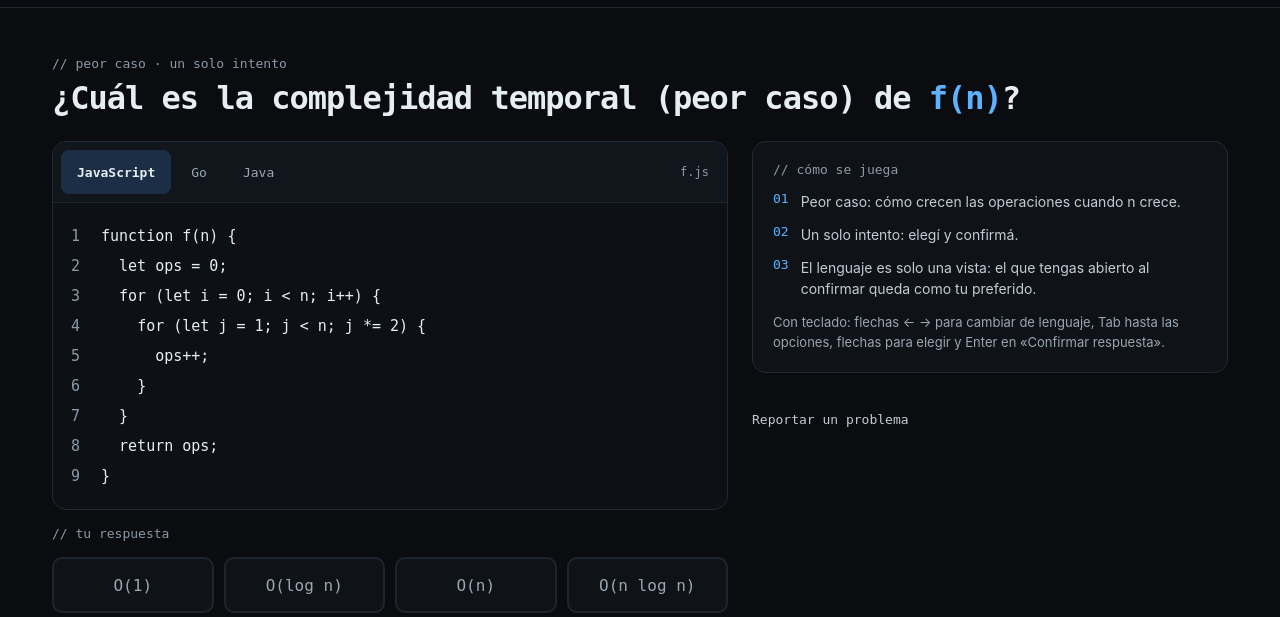
Test case: errores del ciclo común › TS-24: challenge_voided al confirmar bloquea la partida
This screenshot has width=1280, height=617.
Click the radio button labelled "O(n)": click(476, 585) [395,557,556,613]
(page scrolled)
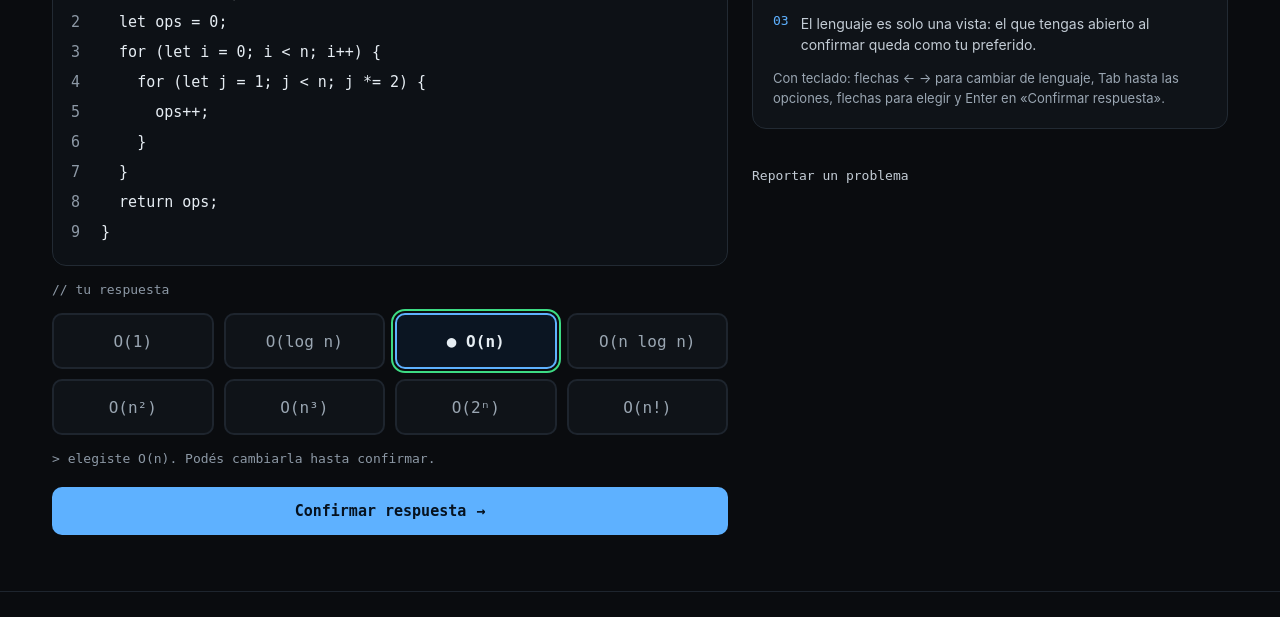
Click the button "Confirmar respuesta →": click(390, 511) [52,487,728,535]
(page scrolled)
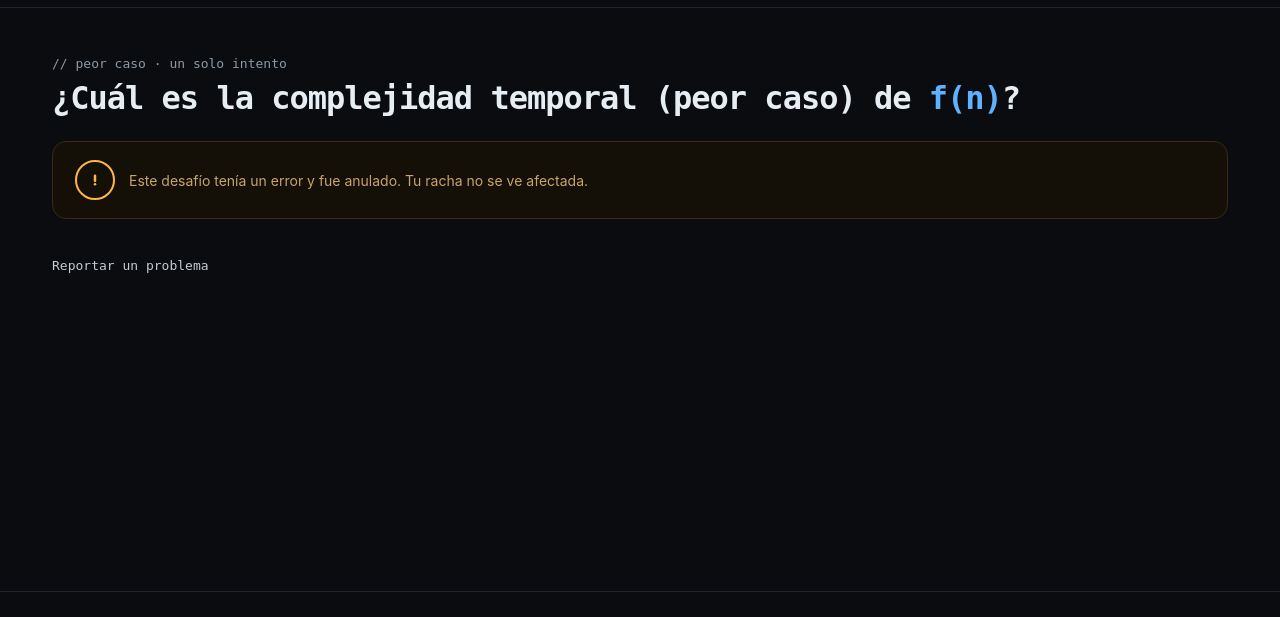
Expected: the button "Reportar un problema" is shown, [52,243,1228,287]
Result: the text "Este desafío tenía un error y fue anulado. Tu racha no se ve afectada." is shown at [52,141,1228,219]
Result: the button "Confirmar respuesta" is gone
